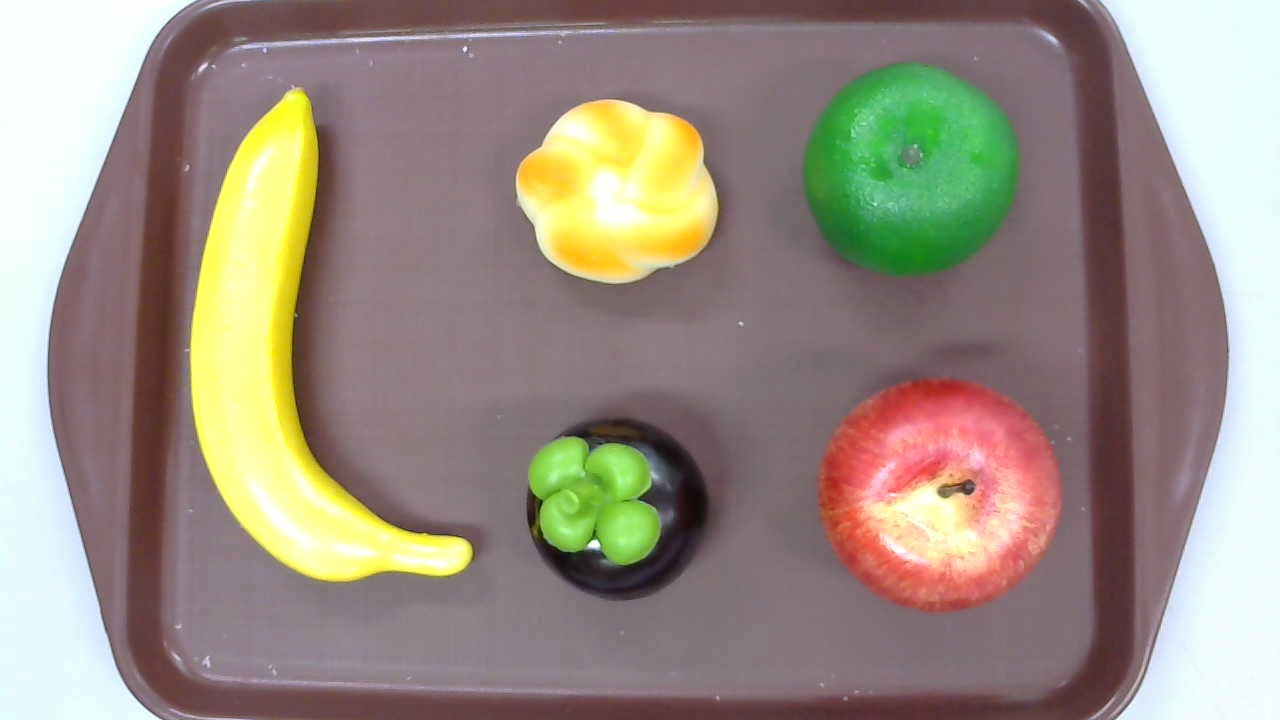banana: (191, 88, 472, 583), (523, 415, 709, 603)
green orange: (802, 60, 1022, 278)
red apple: (816, 378, 1063, 613)
twist bread: (514, 98, 718, 285)
